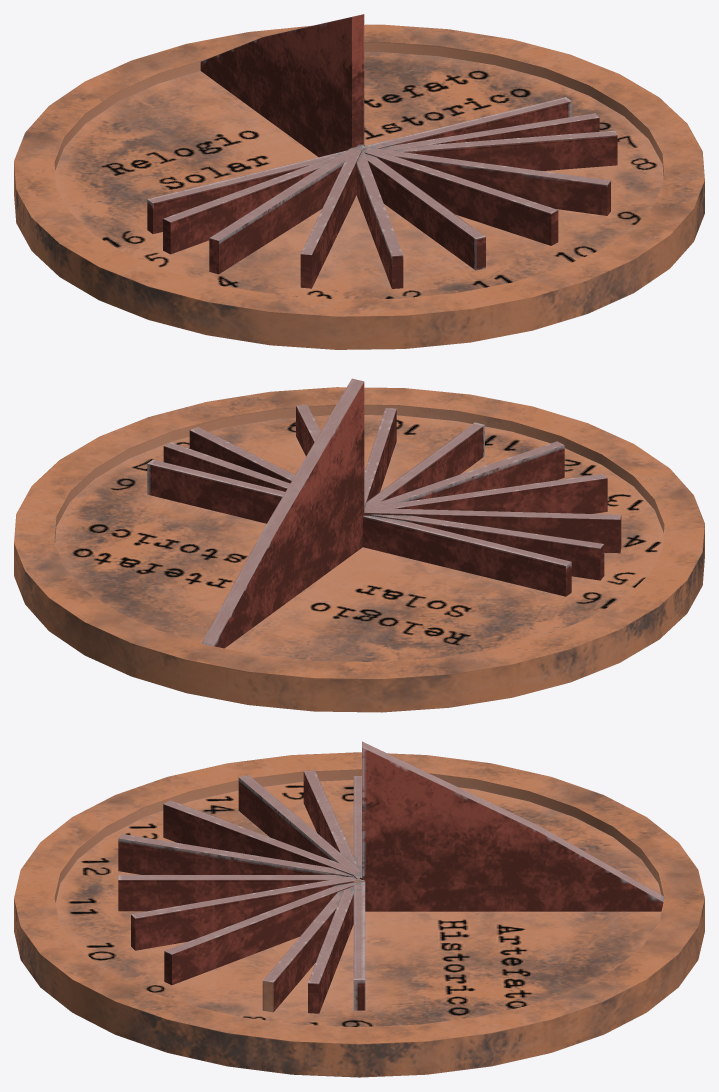
The model's file is Relogio_solar_primitivo.glb.
The picture shows the model from 3 angles, top to bottom: view 1: azimuth 30°, elevation 25°; view 2: azimuth 150°, elevation 25°; view 3: azimuth 270°, elevation 25°; orthographic projection.
Visible parts, largest first — view 1: pCube13; view 2: pCube13; view 3: pCube13.
Part boxes in pixels (left/top/right/bottom): pCube13: left=14, top=14, right=704, bottom=349; pCube13: left=14, top=378, right=704, bottom=712; pCube13: left=14, top=741, right=704, bottom=1077.
Size of the model in its own units: 0.1201 by 0.0359 by 0.1201.
Materials: 1 (1 with a texture image).
